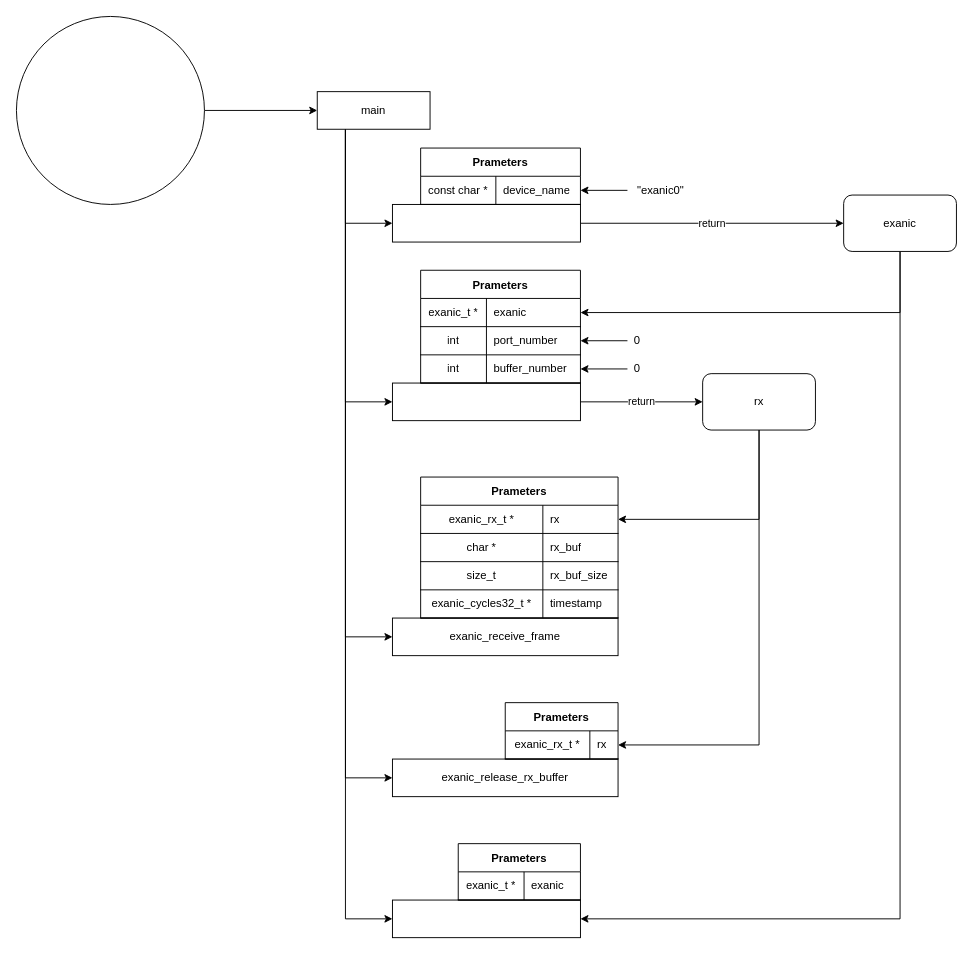
Some shapes in this 973 by 954 pixel diagram are drawn without their labels. Each missing label, with the centre of its shape:
"exanic-rx-frame.c" goes at [110,110].
"exanic_acquire_handle" goes at [486,223].
"exanic_acquire_rx_buffer" goes at [486,401].
"exanic_release_handle" goes at [486,918].
